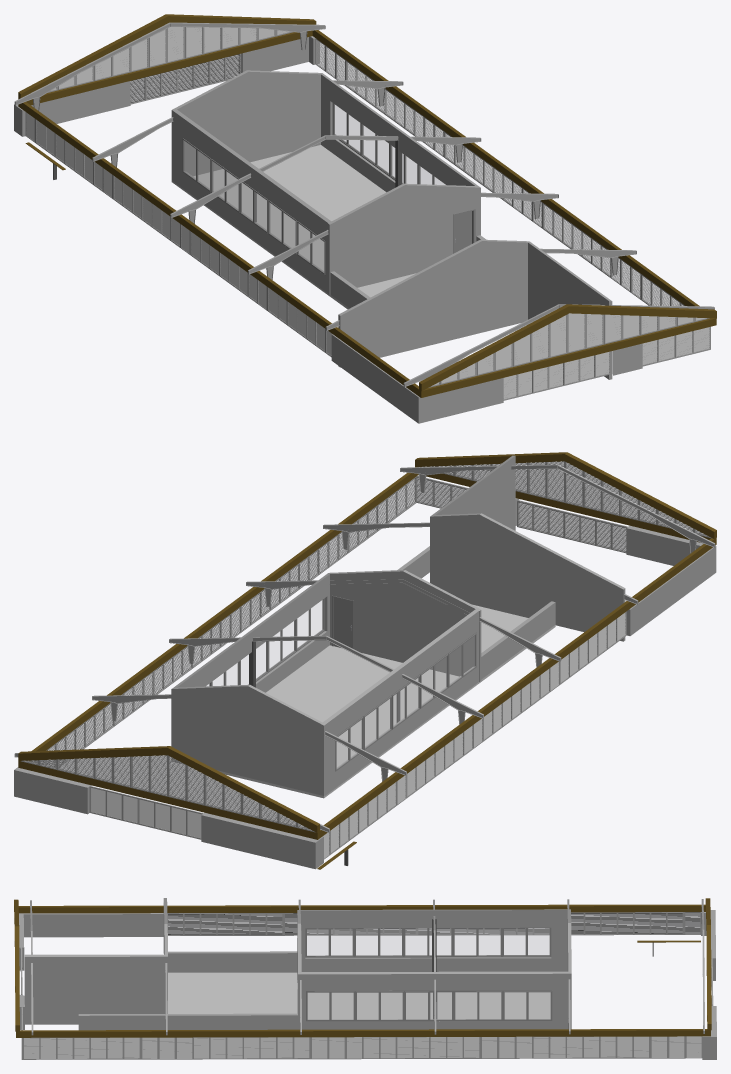
The model's file is floor1.glb.
The picture shows the model from 3 angles, top to bottom: view 1: azimuth 30°, elevation 25°; view 2: azimuth 150°, elevation 25°; view 3: azimuth 270°, elevation 25°; orthographic projection. The views are drawn at different scales.
Visible parts, largest first — view 1: IfcBuildingElementProxy/P19.001, IfcBuildingElementProxy/Parede-031.002, IfcBuildingElementProxy/Parede-035.002, IfcBuildingElementProxy/Parede-033.001, IfcWallStandardCase/Parede-058.002, IfcSlab/L12.001, IfcBuildingElementProxy/Objeto-0004.008, IfcBuildingElementProxy/Parede-032.002, IfcBuildingElementProxy/J21.001, IfcBuildingElementProxy/J21.002, IfcBuildingElementProxy/Parede-034.005, IfcBuildingElementProxy/Viga-010 (+18 smaller); view 2: IfcBuildingElementProxy/P19.001, IfcBuildingElementProxy/Parede-031.002, IfcBuildingElementProxy/Parede-033.001, IfcWallStandardCase/Parede-058.002, IfcSlab/L12.001, IfcBuildingElementProxy/Parede-035.002, IfcBuildingElementProxy/Objeto-0004.008, IfcBuildingElementProxy/Parede-032.002, IfcBuildingElementProxy/J21.002, IfcBuildingElementProxy/J21.001, IfcBuildingElementProxy/Parede-034.005, IfcBuildingElementProxy/Viga-010 (+18 smaller); view 3: IfcBuildingElementProxy/P19.001, IfcSlab/L12.001, IfcBuildingElementProxy/Parede-032.002, IfcBuildingElementProxy/Parede-032.001, IfcBuildingElementProxy/Parede-034.005, IfcBuildingElementProxy/Viga-008, IfcWallStandardCase/Parede-058.002, IfcBuildingElementProxy/Viga-010, IfcBuildingElementProxy/Parede-035.001, IfcBuildingElementProxy/Parede-034.004, IfcBuildingElementProxy/J26.007, IfcBuildingElementProxy/J26.009 (+16 smaller).
Part boxes in pixels (bbox=[...]): IfcBuildingElementProxy/P19.001: bbox=[25, 31, 710, 400]; IfcBuildingElementProxy/Parede-031.002: bbox=[338, 239, 528, 367]; IfcBuildingElementProxy/Parede-035.002: bbox=[328, 183, 480, 294]; IfcBuildingElementProxy/Parede-033.001: bbox=[172, 70, 321, 176]; IfcWallStandardCase/Parede-058.002: bbox=[14, 36, 642, 423]; IfcSlab/L12.001: bbox=[171, 145, 415, 309]; IfcBuildingElementProxy/Objeto-0004.008: bbox=[14, 22, 714, 386]; IfcBuildingElementProxy/Parede-032.002: bbox=[171, 109, 332, 293]; IfcBuildingElementProxy/J21.001: bbox=[428, 313, 709, 387]; IfcBuildingElementProxy/J21.002: bbox=[48, 27, 293, 92]; IfcBuildingElementProxy/Parede-034.005: bbox=[321, 73, 479, 192]; IfcBuildingElementProxy/Viga-010: bbox=[18, 102, 419, 396]; IfcBuildingElementProxy/P19.001: bbox=[32, 474, 696, 859]; IfcBuildingElementProxy/Parede-031.002: bbox=[430, 513, 625, 641]; IfcBuildingElementProxy/Parede-033.001: bbox=[171, 684, 323, 795]; IfcWallStandardCase/Parede-058.002: bbox=[14, 498, 716, 869]; IfcSlab/L12.001: bbox=[171, 604, 555, 798]; IfcBuildingElementProxy/Parede-035.002: bbox=[329, 570, 481, 681]; IfcBuildingElementProxy/Objeto-0004.008: bbox=[14, 464, 715, 832]; IfcBuildingElementProxy/Parede-032.002: bbox=[322, 608, 480, 796]; IfcBuildingElementProxy/J21.002: bbox=[21, 755, 315, 832]; IfcBuildingElementProxy/J21.001: bbox=[417, 461, 712, 538]; IfcBuildingElementProxy/Parede-034.005: bbox=[172, 573, 329, 692]; IfcBuildingElementProxy/Viga-010: bbox=[314, 538, 714, 839]; IfcBuildingElementProxy/P19.001: bbox=[20, 908, 713, 1059]; IfcSlab/L12.001: bbox=[168, 972, 550, 1019]; IfcBuildingElementProxy/Parede-032.002: bbox=[297, 909, 570, 971]; IfcBuildingElementProxy/Parede-032.001: bbox=[24, 954, 167, 1024]; IfcBuildingElementProxy/Parede-034.005: bbox=[298, 971, 571, 1029]; IfcBuildingElementProxy/Viga-008: bbox=[19, 1029, 710, 1037]; IfcWallStandardCase/Parede-058.002: bbox=[19, 910, 716, 1059]; IfcBuildingElementProxy/Viga-010: bbox=[18, 904, 705, 913]; IfcBuildingElementProxy/Parede-035.001: bbox=[168, 951, 297, 972]; IfcBuildingElementProxy/Parede-034.004: bbox=[168, 1013, 297, 1029]; IfcBuildingElementProxy/J26.007: bbox=[355, 990, 404, 1021]; IfcBuildingElementProxy/J26.009: bbox=[503, 990, 552, 1020].
Bounding box in the file's own units: 14.11 × 4.65 × 31.4.
